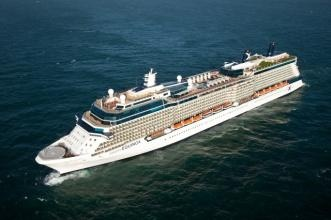youlun: (33, 41, 305, 179)
